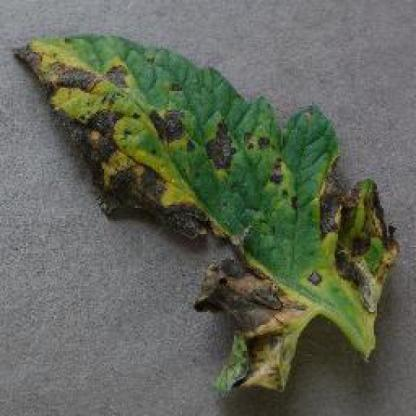Tomato_Blight: (13, 36, 396, 394)
